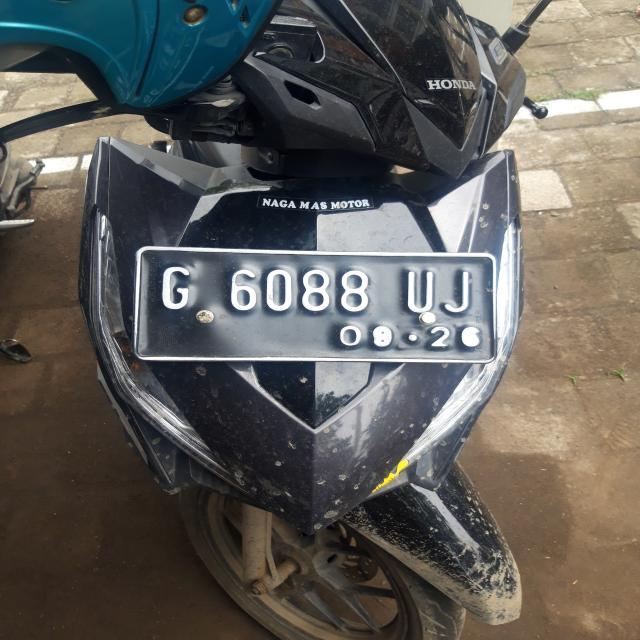plate: (137, 248, 498, 363)
